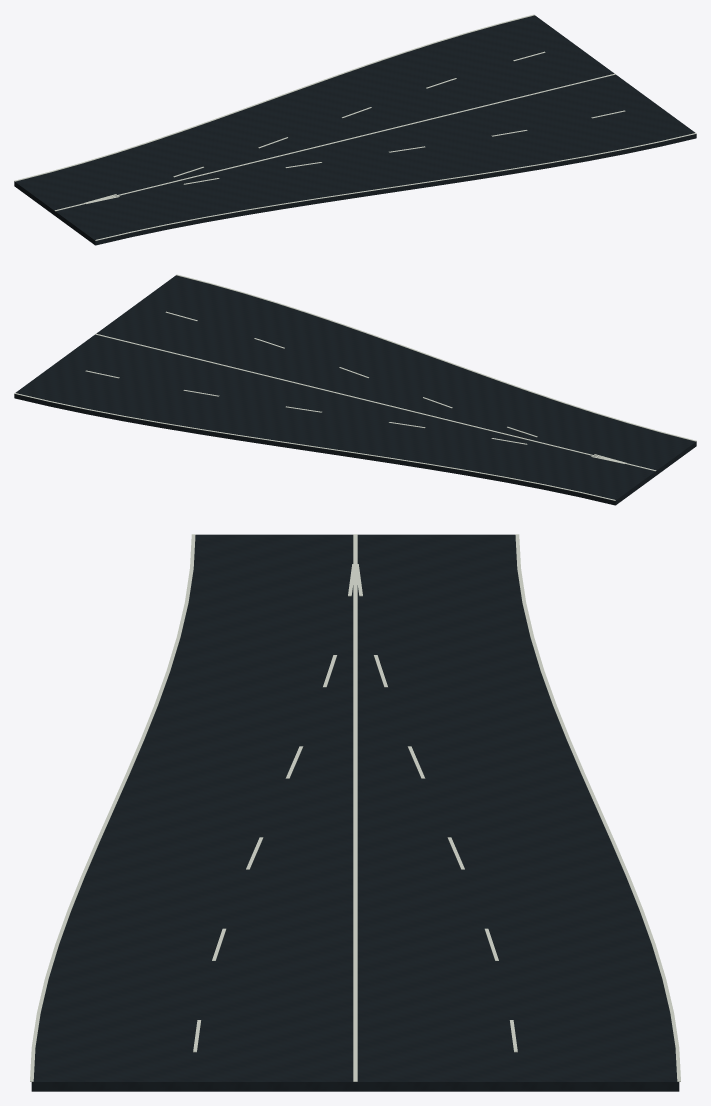
File: Transit_Road_Taper_2L_4L_24m.glb
3 renders of one model, top to bottom at view 1: azimuth 30°, elevation 25°; view 2: azimuth 150°, elevation 25°; view 3: azimuth 270°, elevation 25°, orthographic. The views are drawn at different scales.
Parts seen in each view (by area): view 1: Transit_Road_Taper_2L_4L_24m_Surface, Transit_Road_Taper_2L_4L_24m_MarkEdge-1, Transit_Road_Taper_2L_4L_24m_MarkCenter, Transit_Road_Taper_2L_4L_24m_MarkEdge1, Transit_Road_Taper_2L_4L_24m_MarkMerge-1_1; view 2: Transit_Road_Taper_2L_4L_24m_Surface, Transit_Road_Taper_2L_4L_24m_MarkEdge1, Transit_Road_Taper_2L_4L_24m_MarkCenter, Transit_Road_Taper_2L_4L_24m_MarkEdge-1; view 3: Transit_Road_Taper_2L_4L_24m_Surface, Transit_Road_Taper_2L_4L_24m_MarkCenter, Transit_Road_Taper_2L_4L_24m_MarkEdge-1, Transit_Road_Taper_2L_4L_24m_MarkEdge1, Transit_Road_Taper_2L_4L_24m_MarkMerge-1_1, Transit_Road_Taper_2L_4L_24m_MarkMerge1_1.
Part boxes in pixels (x1,y1,x2,y2): Transit_Road_Taper_2L_4L_24m_Surface: (14,15,696,245); Transit_Road_Taper_2L_4L_24m_MarkEdge-1: (95,133,696,240); Transit_Road_Taper_2L_4L_24m_MarkCenter: (54,73,615,211); Transit_Road_Taper_2L_4L_24m_MarkEdge1: (14,14,534,181); Transit_Road_Taper_2L_4L_24m_MarkMerge-1_1: (85,110,625,203); Transit_Road_Taper_2L_4L_24m_Surface: (14,275,696,505); Transit_Road_Taper_2L_4L_24m_MarkEdge1: (14,393,615,500); Transit_Road_Taper_2L_4L_24m_MarkCenter: (95,333,656,471); Transit_Road_Taper_2L_4L_24m_MarkEdge-1: (176,274,696,441); Transit_Road_Taper_2L_4L_24m_Surface: (31,534,679,1091); Transit_Road_Taper_2L_4L_24m_MarkCenter: (353,534,357,1081); Transit_Road_Taper_2L_4L_24m_MarkEdge-1: (30,534,195,1081); Transit_Road_Taper_2L_4L_24m_MarkEdge1: (515,534,680,1081); Transit_Road_Taper_2L_4L_24m_MarkMerge-1_1: (193,564,354,1052); Transit_Road_Taper_2L_4L_24m_MarkMerge1_1: (356,564,517,1052).
Bounding box in the file's own units: 24 × 0.212 × 12.07.
Materials: 2 (1 with a texture image).
